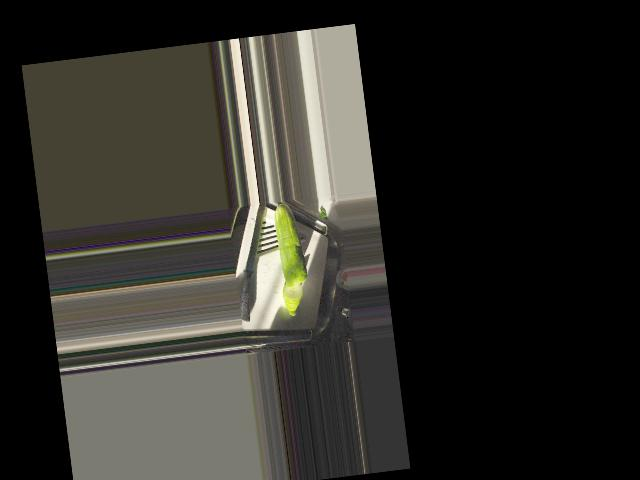cucumber: (272, 201, 308, 288)
